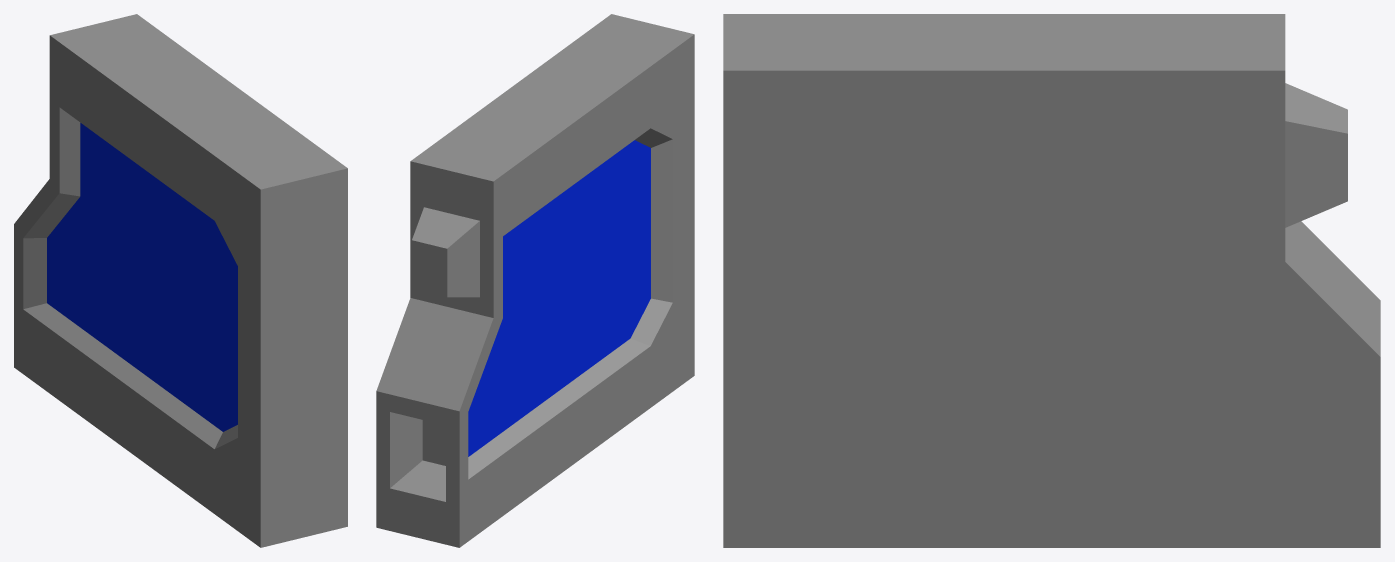
The model's file is SM_HangerLaunchDoor.FBX.
3 views of the same model, side by side, from view 1: azimuth 30°, elevation 25°; view 2: azimuth 150°, elevation 25°; view 3: azimuth 270°, elevation 25° (orthographic). The views are drawn at different scales.
Visible parts, largest first — view 1: Box001; view 2: Box001; view 3: Box001.
Part boxes in pixels (x1,y1,x2,y2): Box001: (14, 14, 347, 547); Box001: (376, 14, 694, 547); Box001: (723, 14, 1380, 547).
Size of the model in its own units: 34.61 by 136 by 170.
